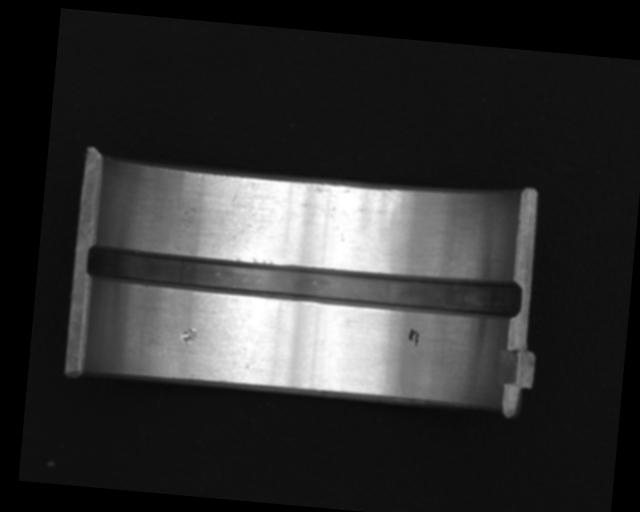blot: (407, 326, 421, 348)
bruise: (179, 325, 199, 347)
gap: (84, 243, 521, 323)
